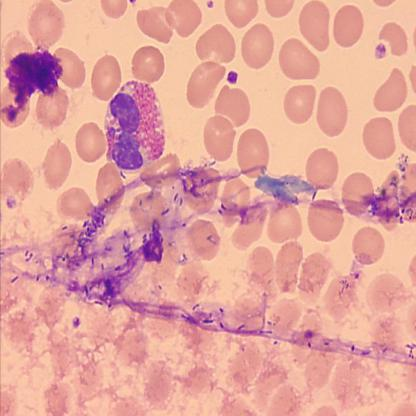Eosinophil: (102, 78, 166, 177)
